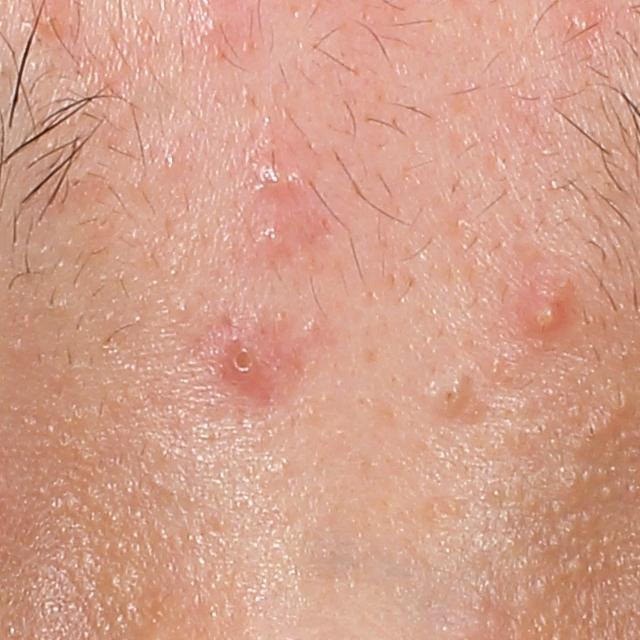comedo: (428, 378, 471, 418)
papule: (218, 330, 276, 395), (256, 154, 308, 197)
pustule: (521, 285, 576, 341)
